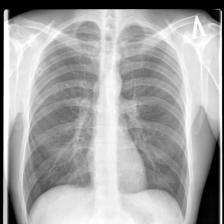tuberculosis: (21, 12, 194, 224)
